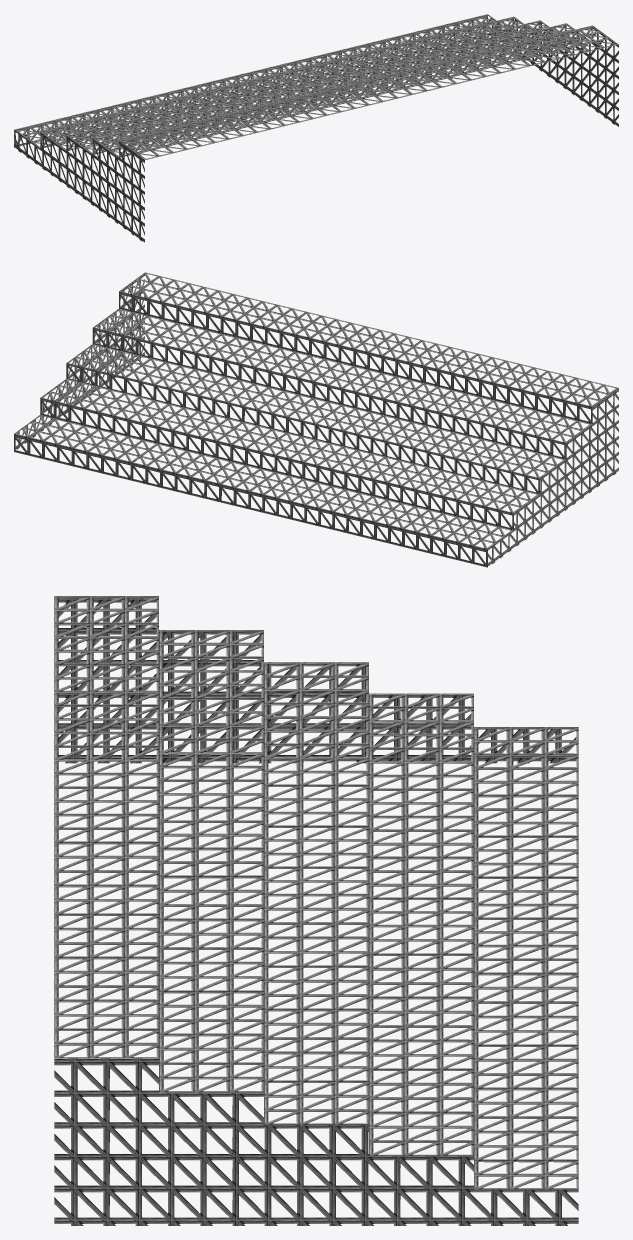
The model's file is FUS0110018.fbx.
3 renders of one model, top to bottom at view 1: azimuth 30°, elevation 25°; view 2: azimuth 150°, elevation 25°; view 3: azimuth 270°, elevation 25°, orthographic. The views are drawn at different scales.
Parts seen in each view (by area): view 1: smFUS0110018; view 2: smFUS0110018; view 3: smFUS0110018.
Part boxes in pixels (box(x1,y1,x2,y2)): smFUS0110018: box(14, 14, 618, 242); smFUS0110018: box(14, 272, 618, 567); smFUS0110018: box(54, 596, 578, 1225).
Bounding box in the file's own units: 1507 × 254 × 722.
1 material, 1 textured.
